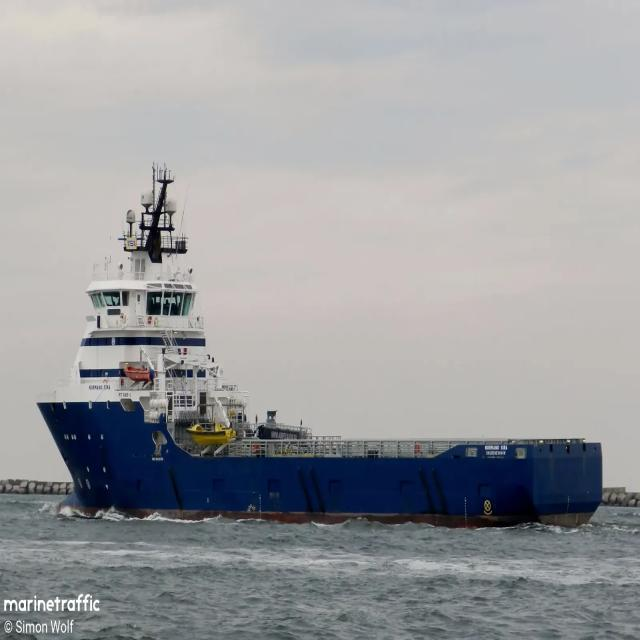Offshore: (37, 165, 602, 526)
